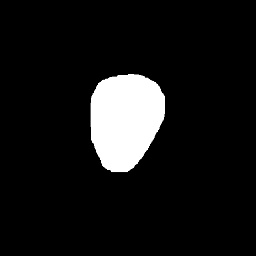mass: (84, 74, 162, 172)
